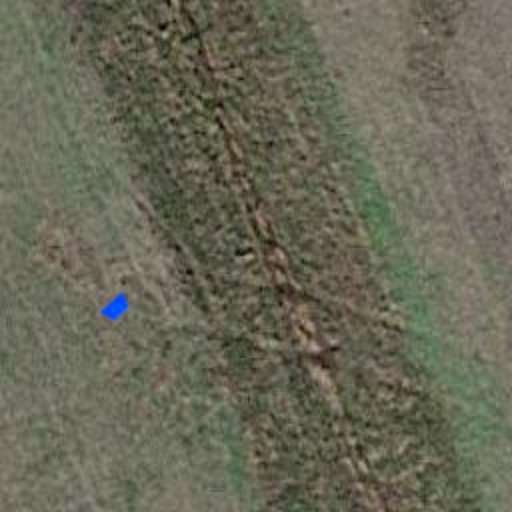trapezoid: (92, 284, 140, 332)
